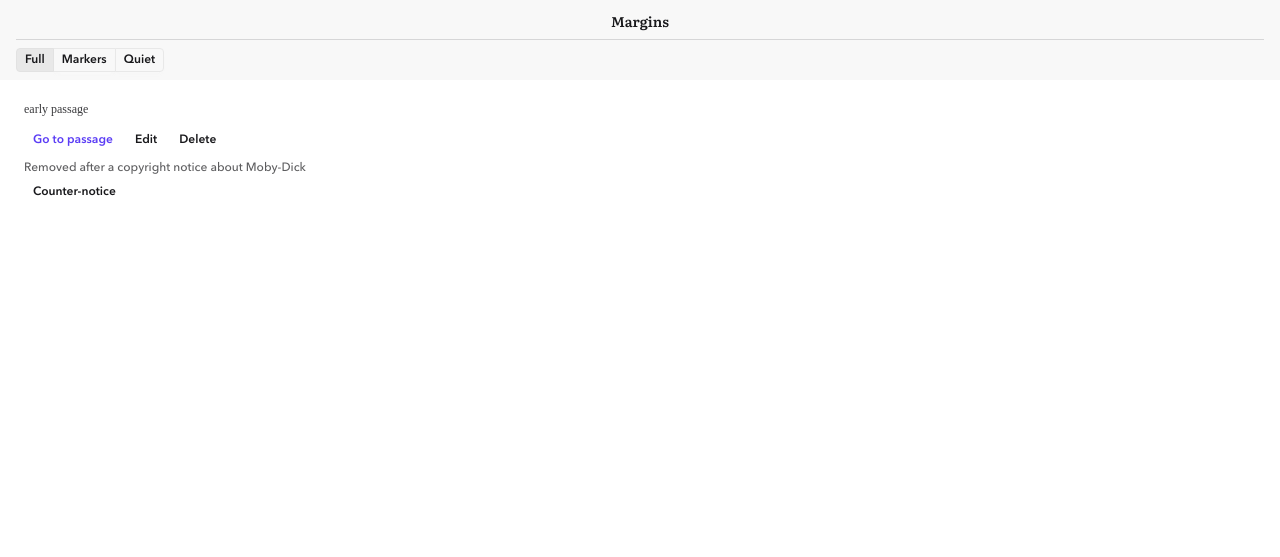
MarginsPopover public state › offers a counter-notice after a copyright removal
This screenshot has width=1280, height=557.
Expected: the text "Removed after a copyright notice about Moby-Dick" is shown, [24,162,306,174]
Click the button "Counter-notice": (74, 192) [24,180,125,204]
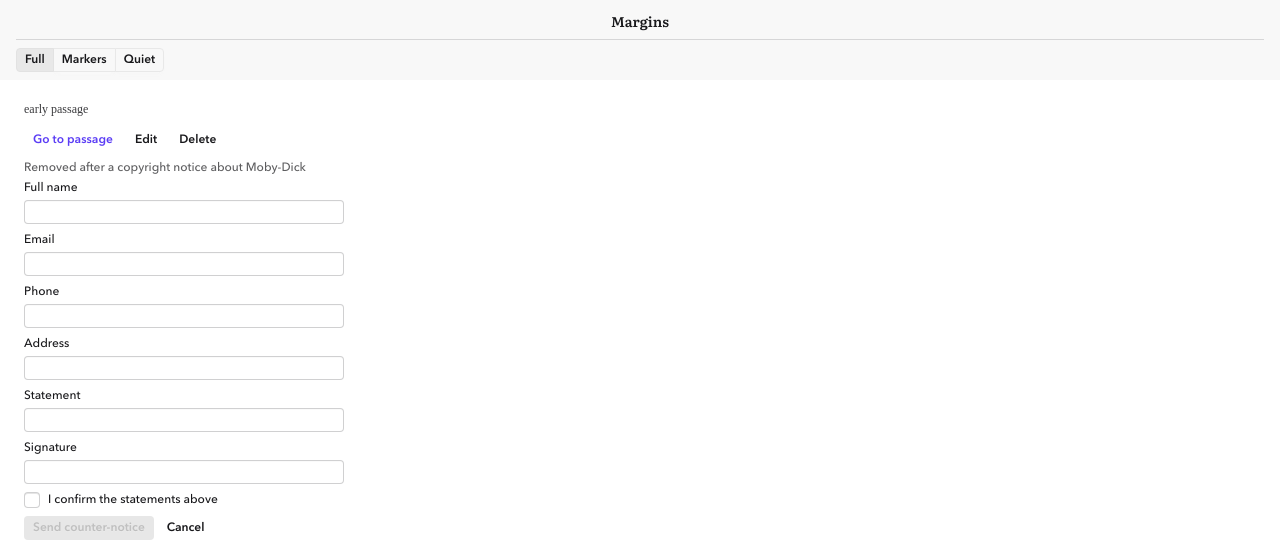
Expected: the field labelled "Signature" is shown, [24,460,344,484]
